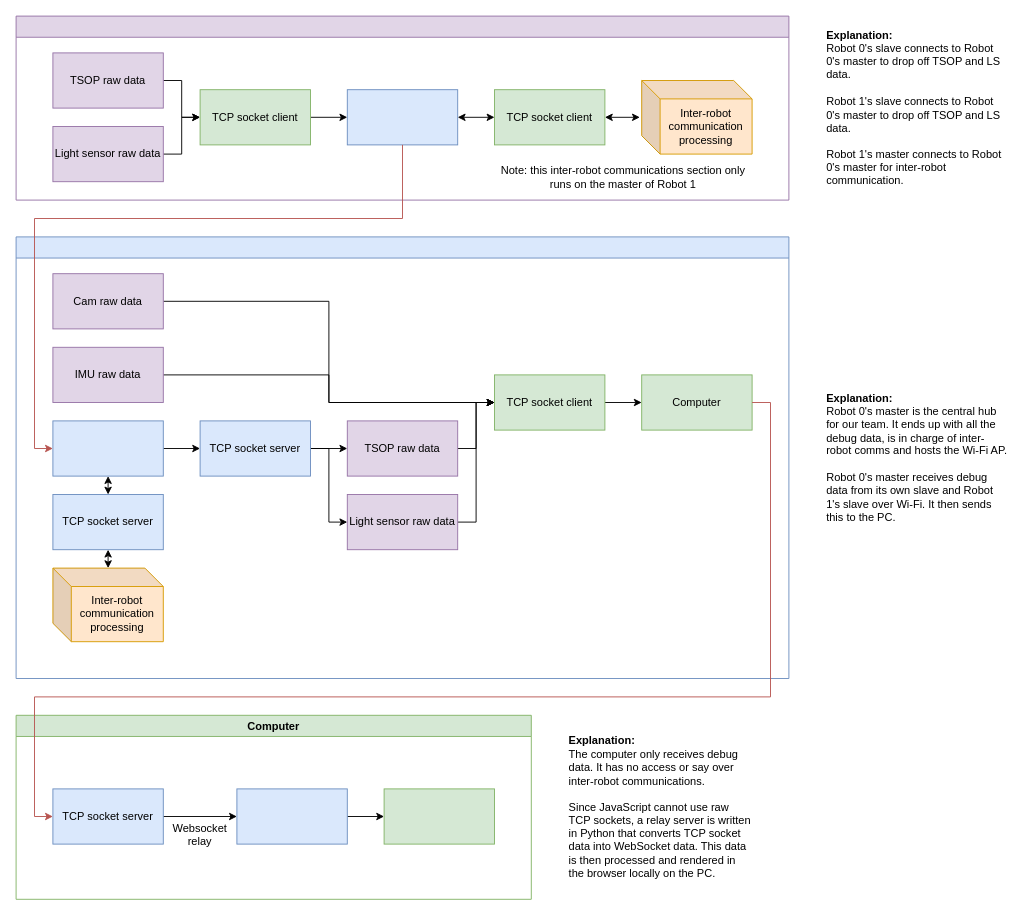
The diagram is 1026 pixels wide and 915 high, and some of its shapes have lost their labels. Here are the shapes that lost their labels. From the top down, the box of each, then its label:
(15, 15, 789, 200): Robot 0 Slave, Robot 1 Master & Slave
(346, 89, 458, 145): Wi-Fi station: connected to host
(52, 420, 163, 476): Wi-Fi AP: both robot's slaves and PC connected
(15, 236, 789, 678): Wi-Fi Host (Robot 0 Master)
(236, 788, 347, 844): Websocket server
(383, 788, 494, 844): Debug webapp
